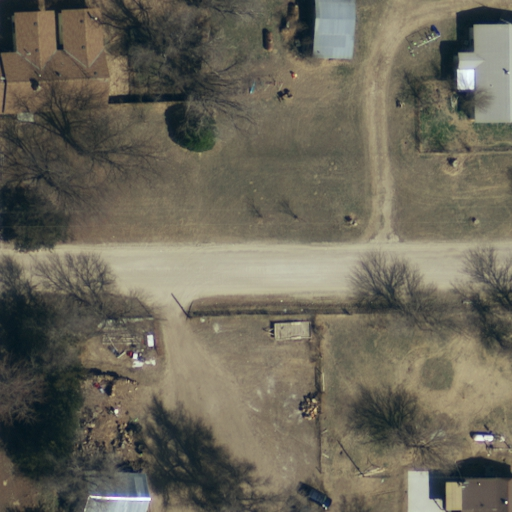DT: (355, 461, 390, 490), (179, 302, 213, 331)
